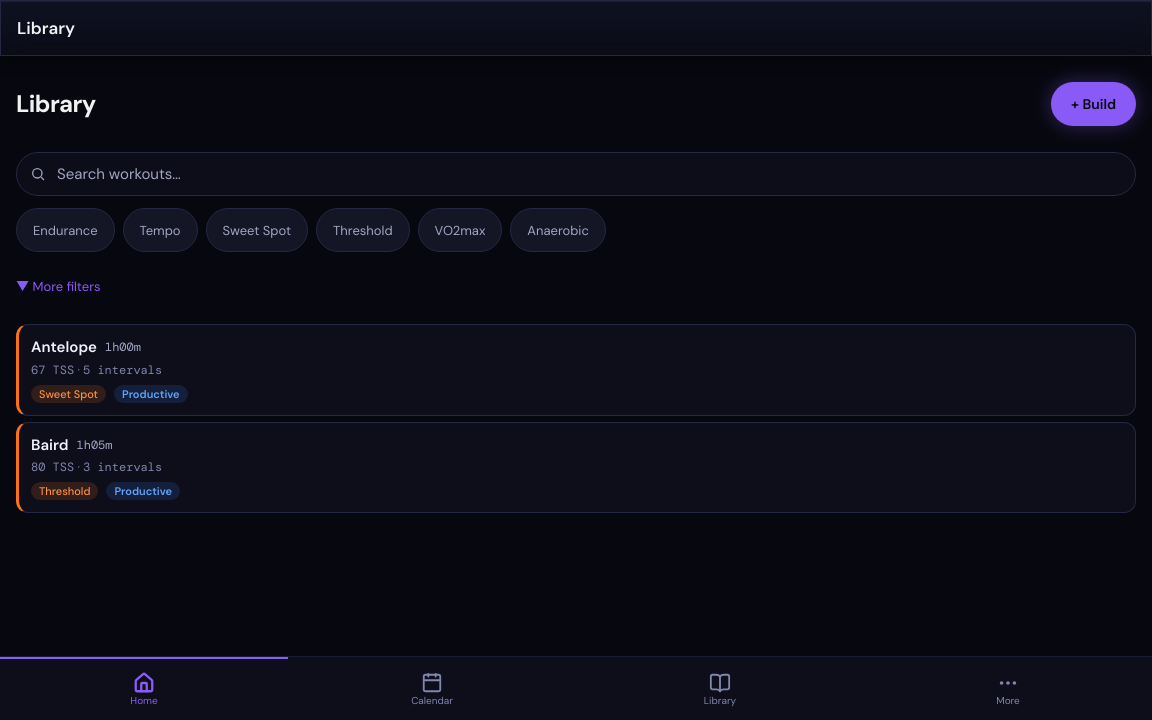
Test: LibraryAdd › c. tapping a result row opens workout preview
Click the text "Antelope" at {"x": 64, "y": 348}, box [31,337,97,358]
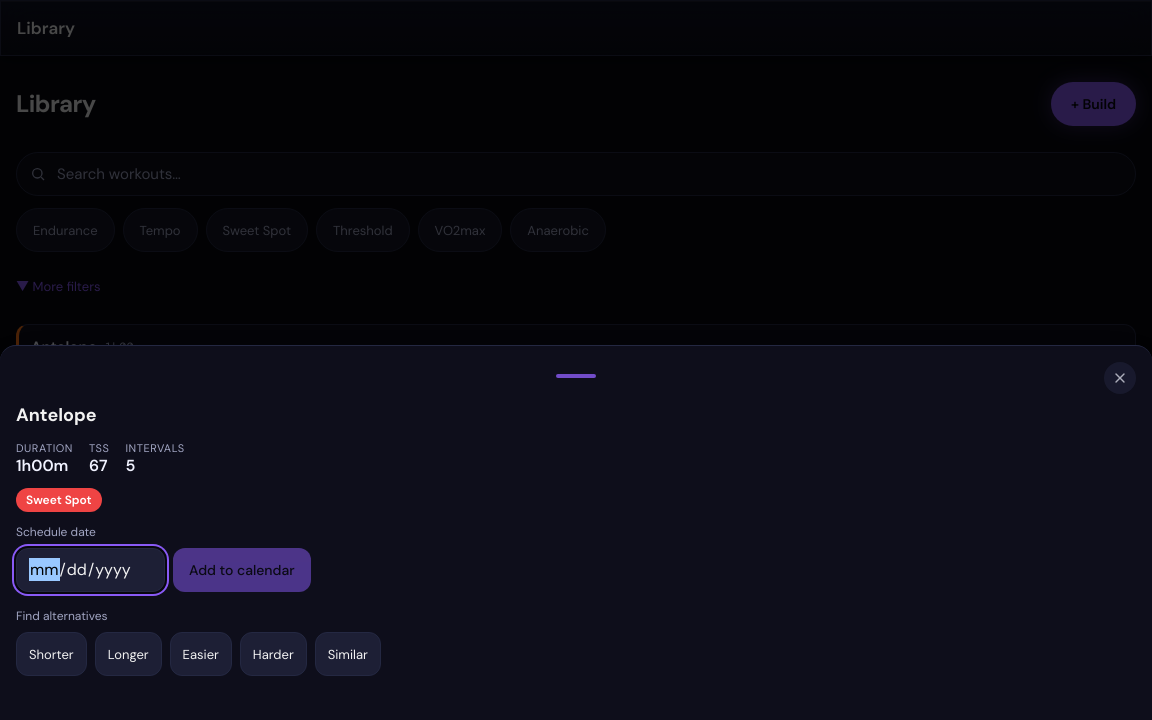
expect the dialog is shown: met, box [0,345,1151,719]
expect the dialog shows "Antelope": met, box [16,403,97,427]
